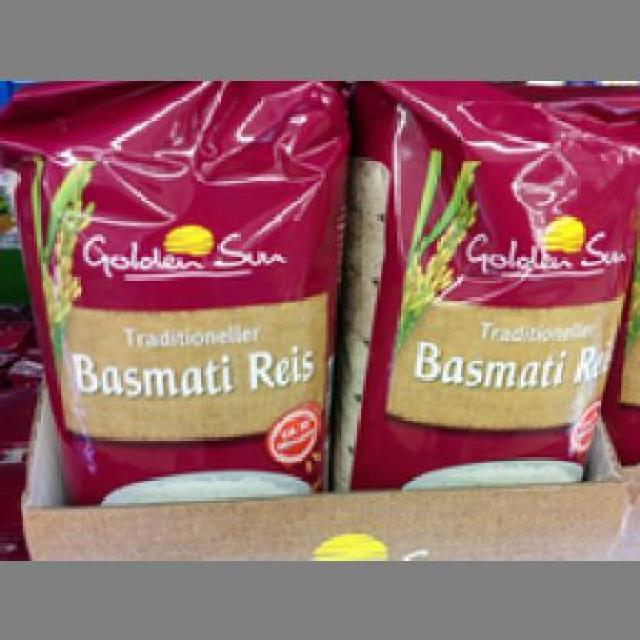Rice: (0, 77, 349, 503), (326, 77, 637, 490)
